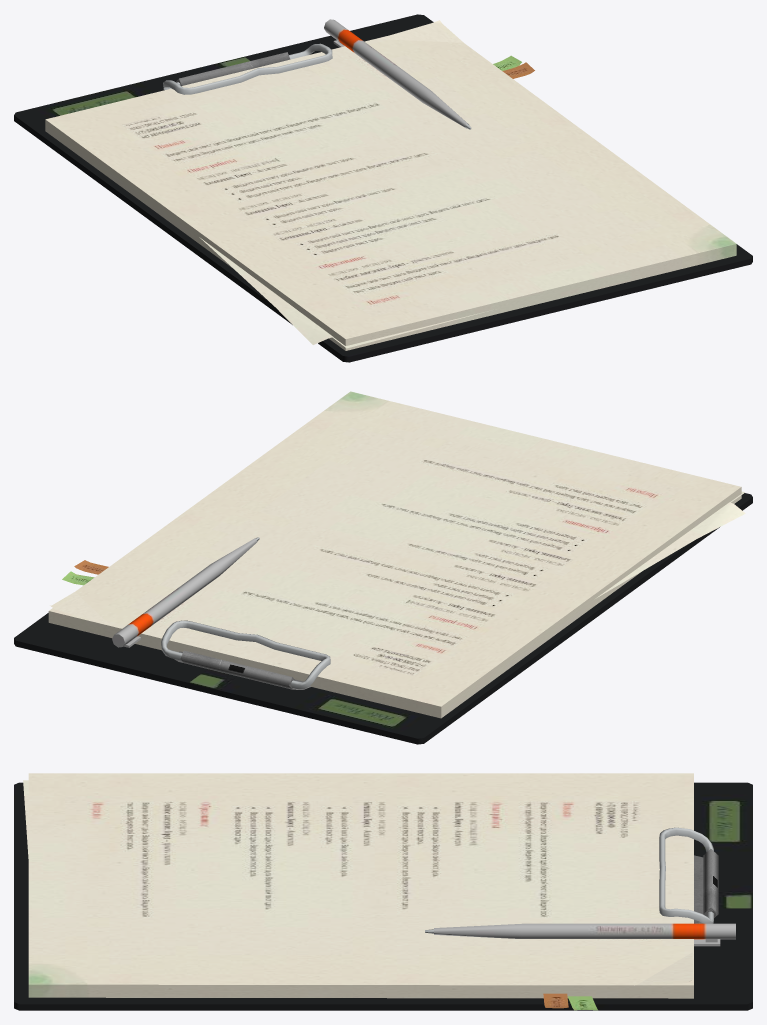
The model's file is clipboard.obj.
The picture shows the model from 3 angles, top to bottom: view 1: azimuth 30°, elevation 25°; view 2: azimuth 150°, elevation 25°; view 3: azimuth 270°, elevation 25°; orthographic projection. The views are drawn at different scales.
Visible parts, largest first — view 1: StackOfPaper_blinn2_0, Tablet_blinn2_0, Paper_blinn2_0, Pin_blinn2_0, Pen_blinn2_0; view 2: StackOfPaper_blinn2_0, Tablet_blinn2_0, Pin_blinn2_0, Paper_blinn2_0, Pen_blinn2_0; view 3: StackOfPaper_blinn2_0, Tablet_blinn2_0, Pen_blinn2_0, Pin_blinn2_0, Paper_blinn2_0.
Part boxes in pixels (x1,y1,x2,y2): StackOfPaper_blinn2_0: [45, 36, 736, 350]; Tablet_blinn2_0: [14, 14, 752, 362]; Paper_blinn2_0: [199, 20, 534, 348]; Pin_blinn2_0: [163, 43, 332, 94]; Pen_blinn2_0: [324, 19, 471, 129]; StackOfPaper_blinn2_0: [48, 391, 741, 718]; Tablet_blinn2_0: [14, 493, 752, 744]; Pin_blinn2_0: [161, 620, 330, 689]; Paper_blinn2_0: [50, 491, 745, 624]; Pen_blinn2_0: [112, 537, 259, 647]; StackOfPaper_blinn2_0: [28, 773, 693, 998]; Tablet_blinn2_0: [14, 782, 752, 1010]; Pen_blinn2_0: [425, 923, 735, 946]; Pin_blinn2_0: [659, 827, 718, 923]; Paper_blinn2_0: [23, 780, 692, 1010].
Size of the model in its own units: 0.2374 by 0.0157 by 0.31.
